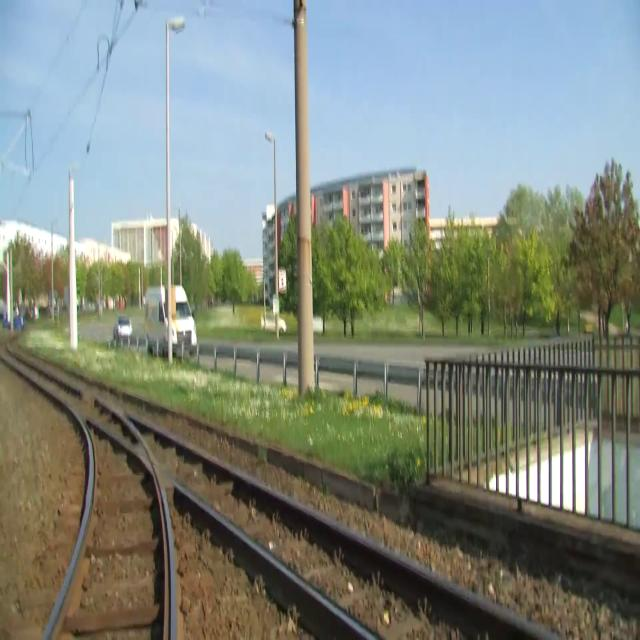rail-track: (134, 423, 538, 639), (49, 423, 170, 639), (1, 346, 147, 455)
